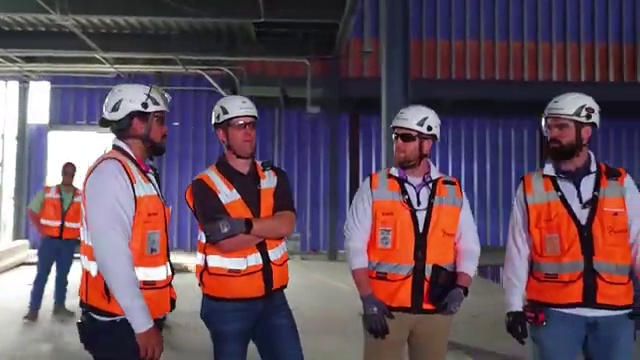helmet: (536, 88, 603, 134), (92, 77, 165, 116), (386, 100, 448, 136), (207, 92, 260, 121)
jacket: (518, 162, 633, 315), (81, 149, 181, 324), (182, 161, 310, 294), (363, 165, 465, 319), (40, 179, 84, 242)
